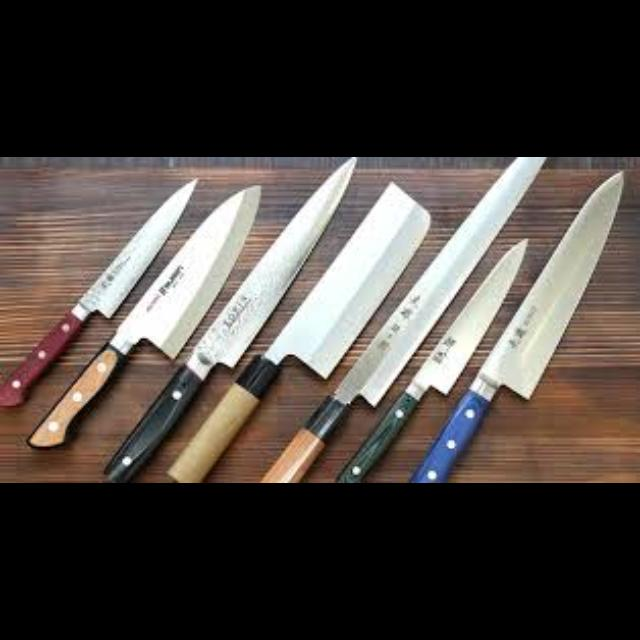knife: (164, 180, 430, 480), (406, 170, 624, 480), (25, 184, 261, 448), (332, 237, 530, 481)
